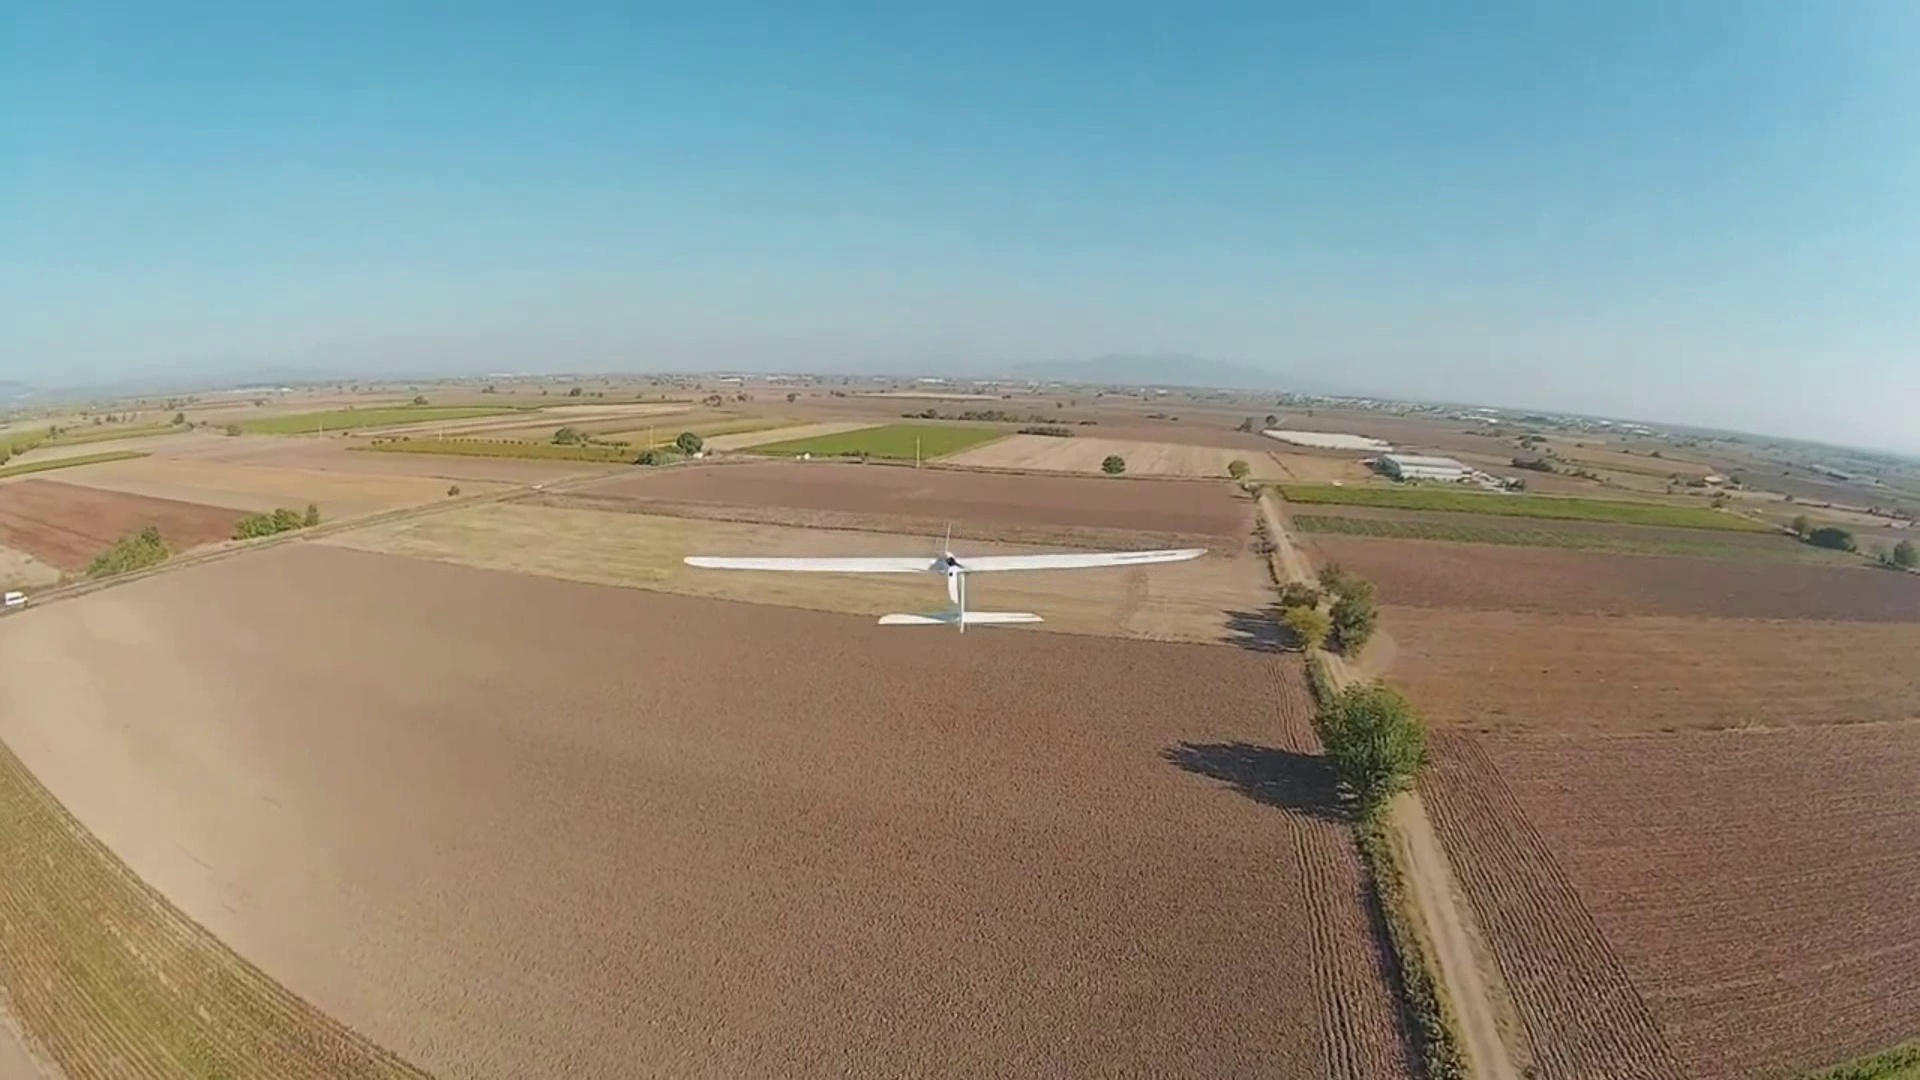airplane: (676, 535, 1211, 625)
